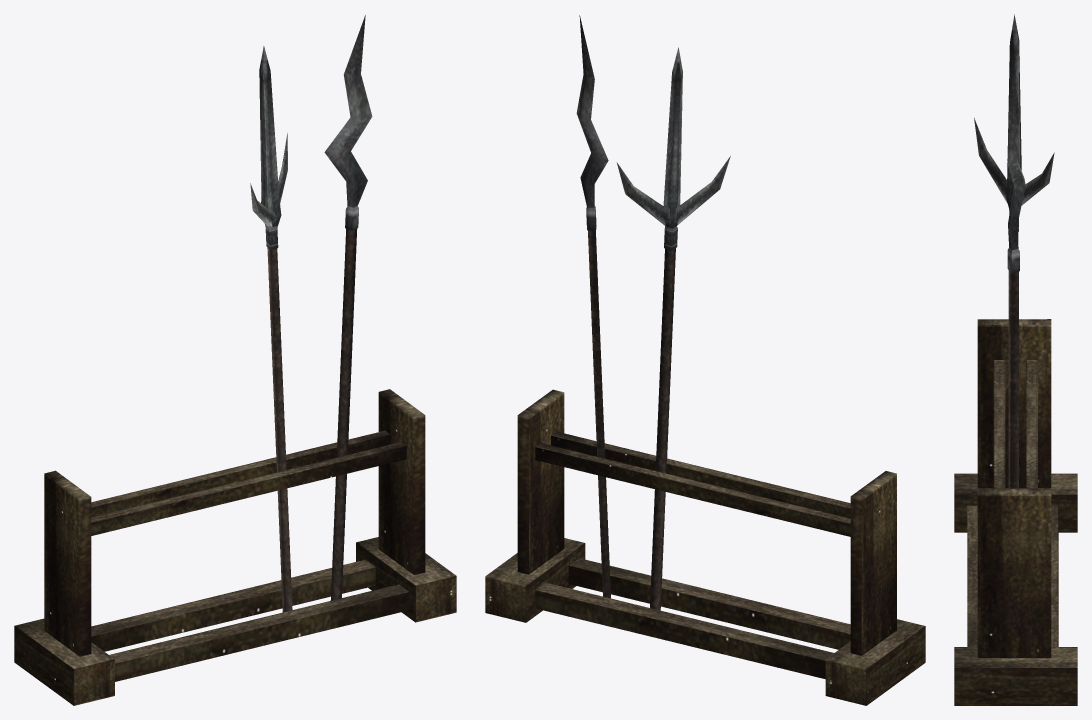
File: ep_b_general_obj_25-2.glb
3 views of the same model, side by side, from view 1: azimuth 30°, elevation 25°; view 2: azimuth 150°, elevation 25°; view 3: azimuth 270°, elevation 25° (orthographic). The views are drawn at different scales.
Visible parts, largest first — view 1: ep_B_general_obj_25-2; view 2: ep_B_general_obj_25-2; view 3: ep_B_general_obj_25-2.
Part boxes in pixels (x1,y1,x2,y2): ep_B_general_obj_25-2: (14, 15, 456, 705); ep_B_general_obj_25-2: (485, 15, 925, 705); ep_B_general_obj_25-2: (954, 14, 1077, 705).
Size of the model in its own units: 2.04 by 3.02 by 0.5487.
1 material, 1 textured.
